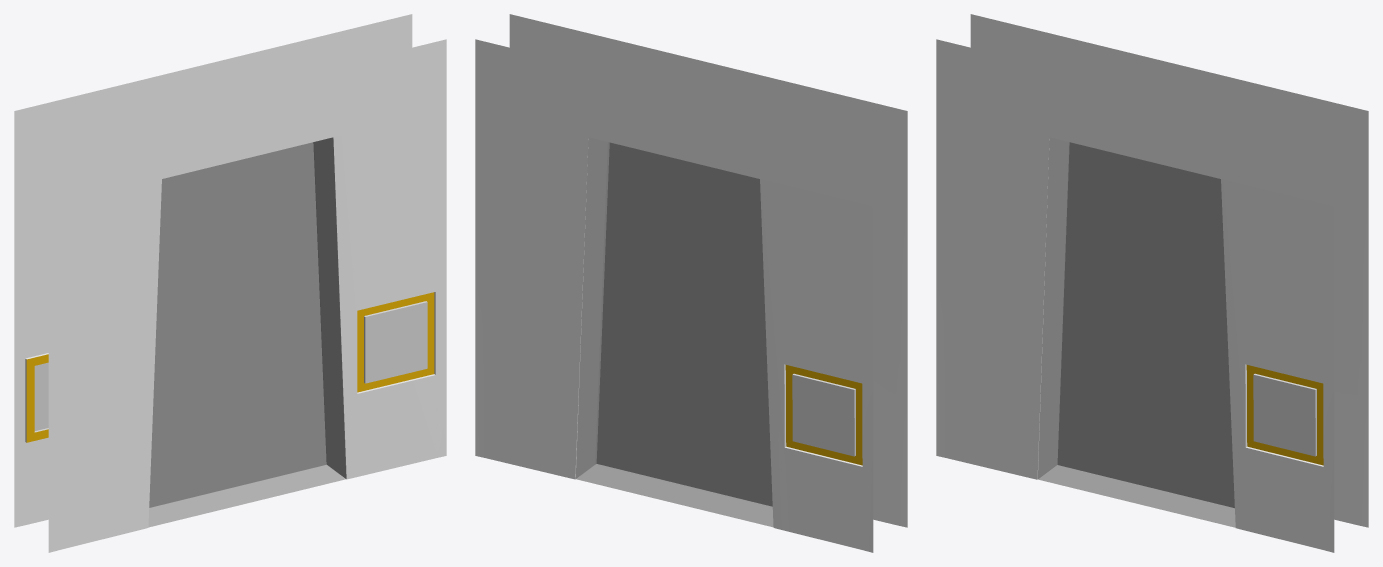
The model's file is Door_simple_V3.fbx.
3 views of the same model, side by side, from view 1: azimuth 30°, elevation 25°; view 2: azimuth 150°, elevation 25°; view 3: azimuth 330°, elevation 25° (orthographic).
Visible parts, largest first — view 1: Frame, Hologram, Frame_holo, Control_Panel_Front, Control_panel_back; view 2: Frame, Hologram, Frame_holo, Control_panel_back; view 3: Frame, Hologram, Frame_holo, Control_Panel_Front.
Part boxes in pixels (x1,y1,x2,y2): Frame: (14, 14, 446, 552); Hologram: (149, 142, 326, 507); Frame_holo: (148, 137, 346, 527); Control_Panel_Front: (357, 292, 434, 392); Control_panel_back: (26, 354, 48, 442); Frame: (475, 14, 907, 552); Hologram: (596, 142, 772, 506); Frame_holo: (575, 137, 773, 527); Control_panel_back: (785, 365, 862, 465); Frame: (936, 14, 1368, 552); Hologram: (1057, 142, 1234, 508); Frame_holo: (1038, 137, 1235, 527); Control_Panel_Front: (1246, 365, 1323, 465).
Bounding box in the file's own units: 500 × 500 × 75.
